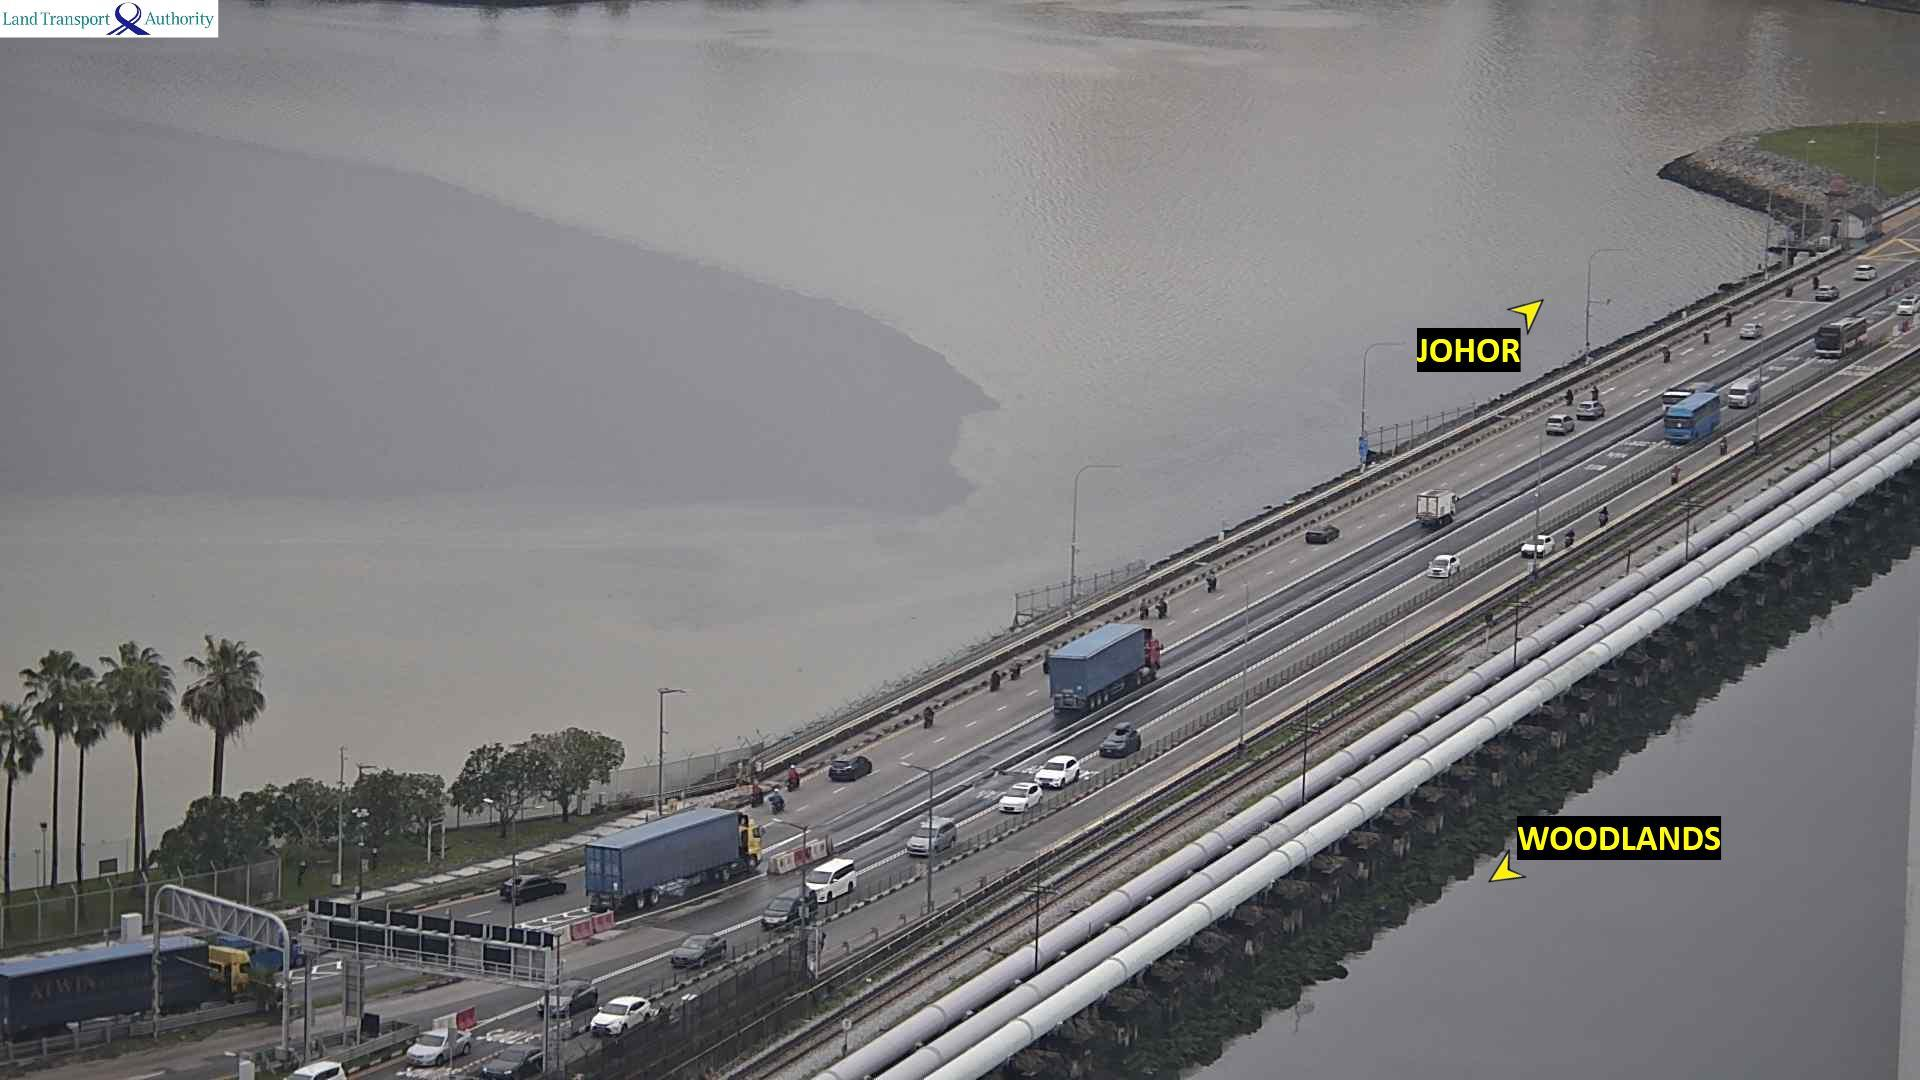vehicle-causeway-johor: (0, 943, 284, 1039), (582, 812, 769, 899), (1054, 625, 1159, 712), (500, 874, 568, 901), (1416, 489, 1456, 527), (831, 754, 872, 779), (1305, 524, 1340, 545), (1545, 415, 1573, 434), (1577, 402, 1606, 417), (1741, 323, 1760, 340), (771, 787, 785, 812), (1816, 286, 1840, 299), (1854, 265, 1876, 278), (1010, 657, 1022, 679), (789, 765, 799, 790), (922, 707, 934, 728), (752, 783, 762, 807), (1158, 596, 1168, 617), (989, 670, 1000, 691), (1207, 571, 1217, 591), (1702, 323, 1712, 343), (1139, 597, 1146, 618), (1662, 347, 1671, 361), (1565, 388, 1575, 402), (1592, 385, 1600, 400), (1725, 311, 1733, 324), (1785, 284, 1792, 294), (1813, 276, 1818, 286)
vehicle-causeway-singapore: (404, 1034, 475, 1068), (592, 996, 650, 1033), (1815, 316, 1866, 357), (484, 1046, 545, 1080), (905, 822, 963, 857), (665, 938, 725, 968), (535, 988, 599, 1017), (1664, 394, 1721, 426), (762, 889, 815, 922), (811, 858, 855, 898), (1100, 720, 1147, 754), (1001, 785, 1047, 812), (284, 1060, 345, 1080), (1039, 767, 1085, 789), (1727, 377, 1759, 406), (1425, 555, 1457, 575), (1520, 537, 1551, 555), (1895, 295, 1920, 314), (1600, 508, 1609, 525), (1671, 465, 1680, 481), (1565, 529, 1573, 543), (1721, 438, 1727, 452)
